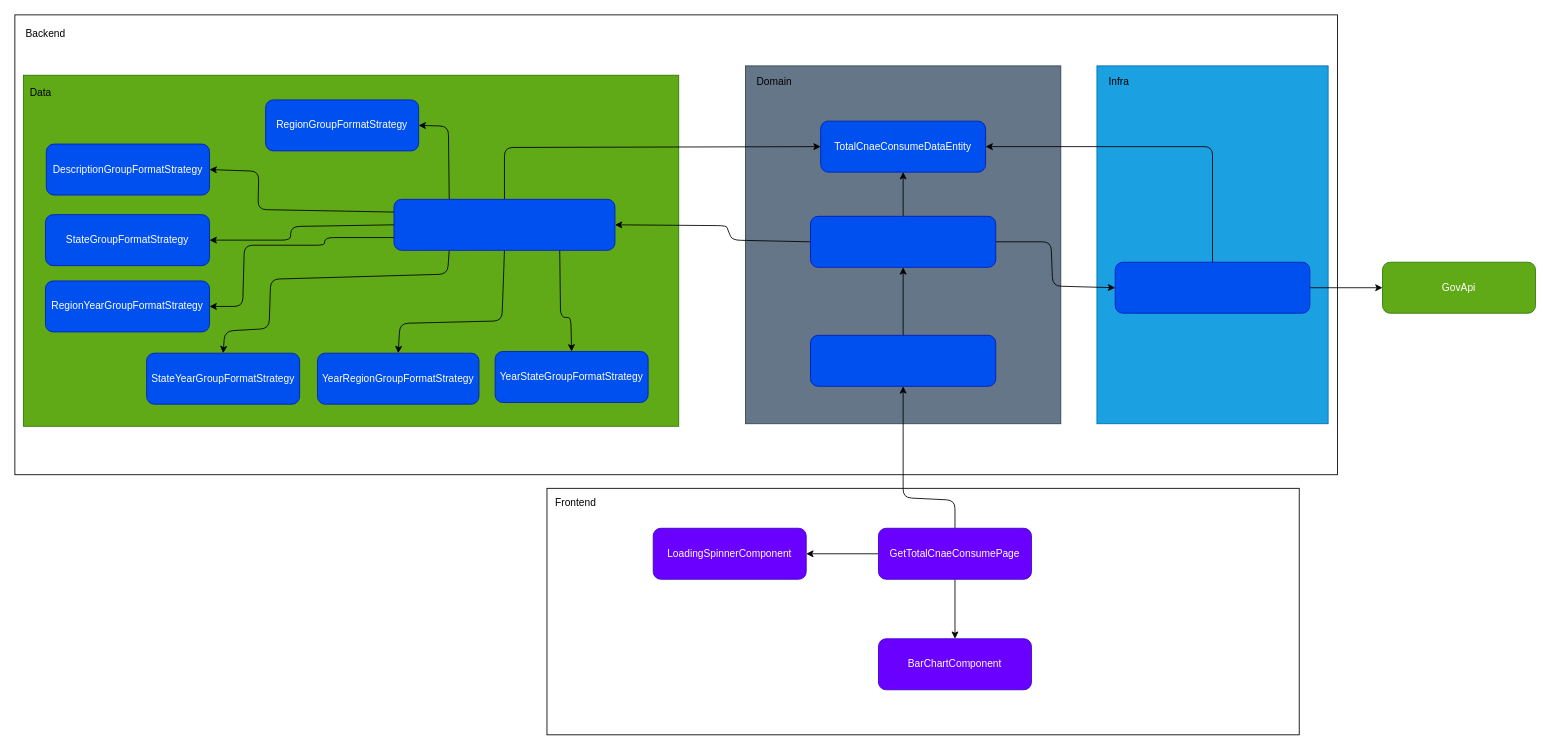
The diagram is 1550 pixels wide and 750 high, and some of its shapes have lost their labels. Each missing label, with the centre of its shape:
"GetTotalCnaeConsumeDataGateway" belongs at (1212,287).
"TotalCnaeConsumeController" belongs at (903,360).
"TotalCnaeConsumeDataFormatFactory" belongs at (504,224).
"TotalCnaeConsumeServiceFacade" belongs at (903,241).
